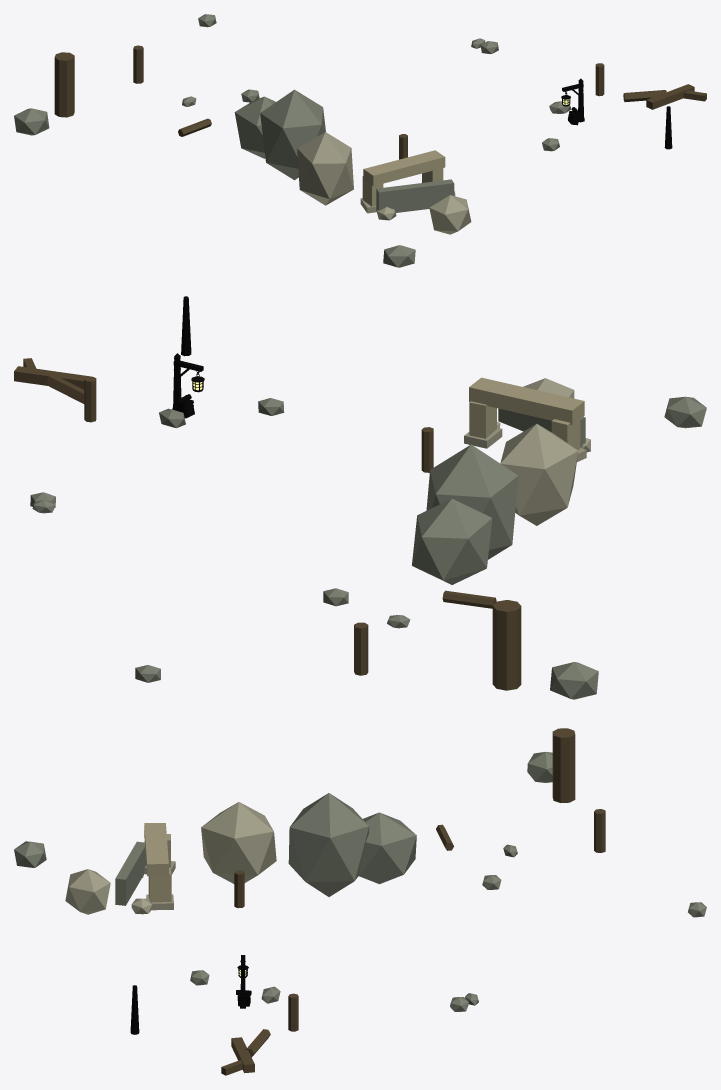
File: side_treasure_hollow_solid_props.fbx
3 views of the same model, one above another, from view 1: azimuth 30°, elevation 25°; view 2: azimuth 150°, elevation 25°; view 3: azimuth 270°, elevation 25° (orthographic). The views are drawn at different scales.
Parts seen in each view (by area): view 1: chunk_side_treasure_hollow__PropsSolid; view 2: chunk_side_treasure_hollow__PropsSolid; view 3: chunk_side_treasure_hollow__PropsSolid.
Boxes of the visible parts, bbox=[...] form: chunk_side_treasure_hollow__PropsSolid: bbox=[14, 14, 706, 267]; chunk_side_treasure_hollow__PropsSolid: bbox=[14, 296, 706, 699]; chunk_side_treasure_hollow__PropsSolid: bbox=[14, 728, 706, 1075].
Size of the model in its own units: 204 by 32 by 192.
